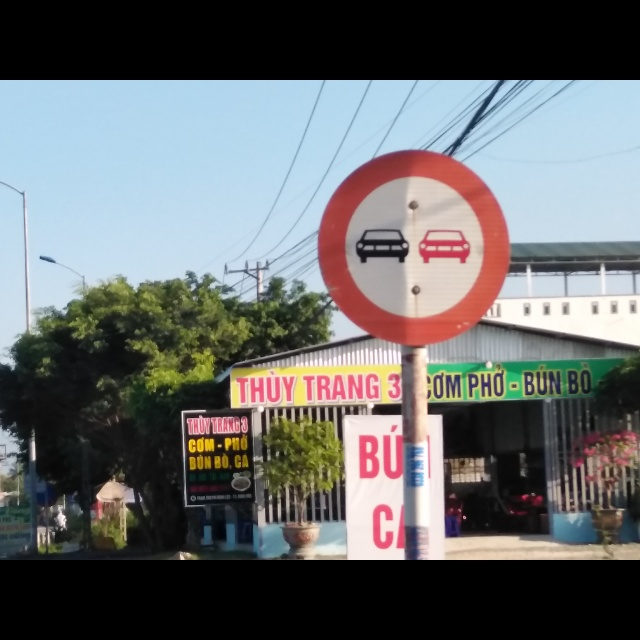Cấm vượt: (314, 150, 511, 351)
